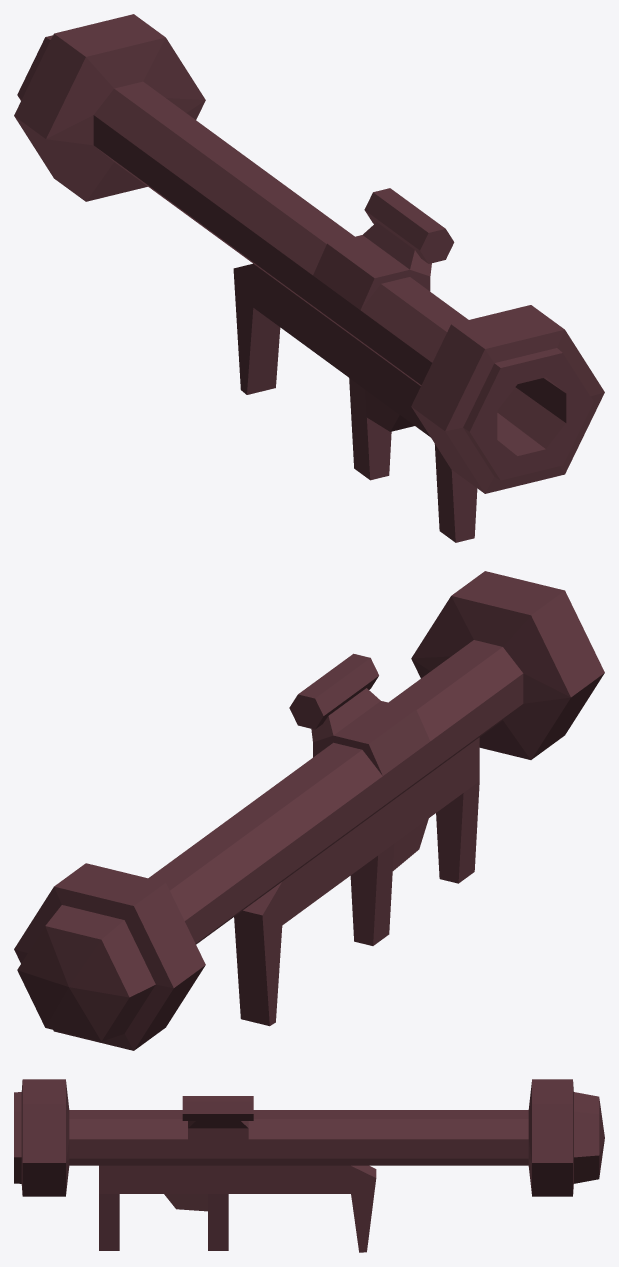
The model's file is rocket-launcher.fbx.
The picture shows the model from 3 angles, top to bottom: view 1: azimuth 30°, elevation 25°; view 2: azimuth 150°, elevation 25°; view 3: azimuth 270°, elevation 25°; orthographic projection. The views are drawn at different scales.
Parts seen in each view (by area): view 1: rocket-launcher; view 2: rocket-launcher; view 3: rocket-launcher.
Part boxes in pixels (bbox=[...]): rocket-launcher: bbox=[14, 14, 604, 542]; rocket-launcher: bbox=[14, 571, 604, 1050]; rocket-launcher: bbox=[14, 1079, 604, 1252].
Bounding box in the file's own units: 0.2 × 0.3022 × 1.
